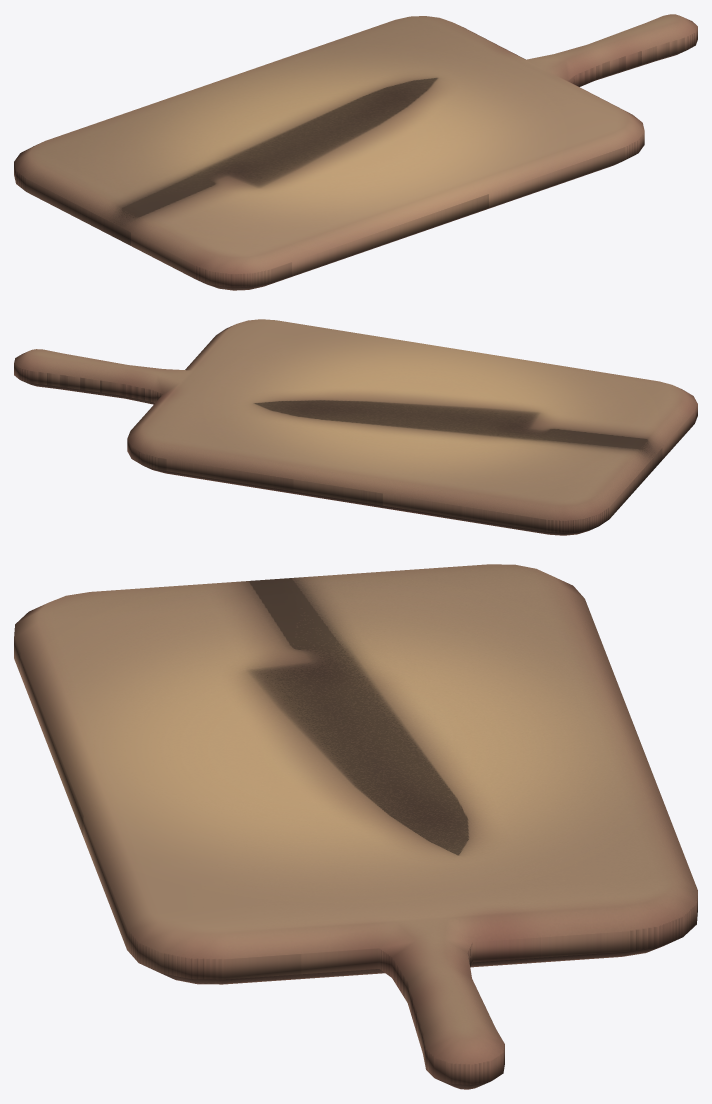
Rendered from cutting board 01.fbx.
3 renders of one model, top to bottom at view 1: azimuth 30°, elevation 25°; view 2: azimuth 150°, elevation 25°; view 3: azimuth 270°, elevation 25°, orthographic. The views are drawn at different scales.
Visible parts, largest first — view 1: cutting board 01; view 2: cutting board 01; view 3: cutting board 01.
Part boxes in pixels (left/top/right/bottom): cutting board 01: left=14, top=14, right=697, bottom=290; cutting board 01: left=14, top=319, right=697, bottom=535; cutting board 01: left=14, top=564, right=697, bottom=1089.
Size of the model in its own units: 1237 by 58.68 by 722.
